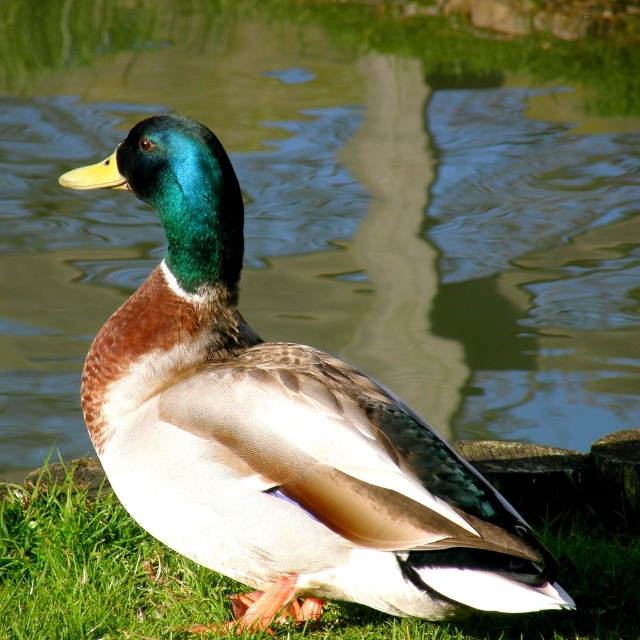Duck: (54, 122, 579, 638)
